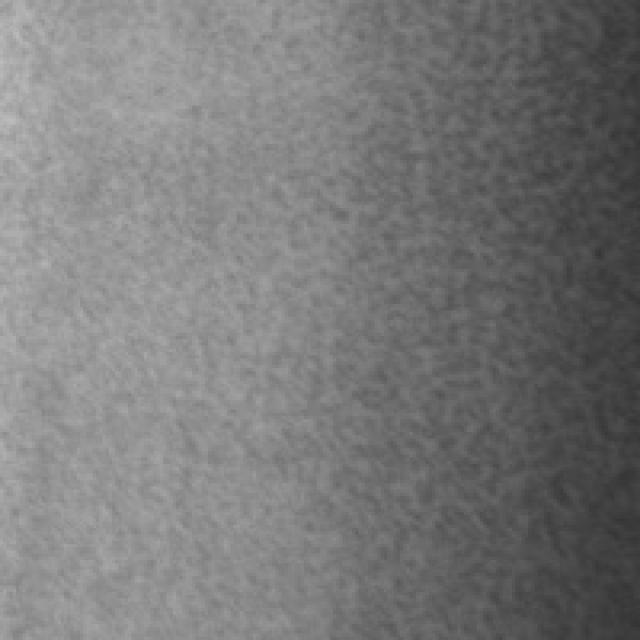pitted_surface: (253, 6, 627, 628)
